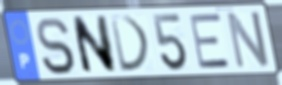5: (150, 12, 189, 74)
D: (108, 14, 153, 75)
E: (187, 11, 233, 71)
N: (69, 14, 118, 77), (225, 9, 272, 71)
S: (34, 16, 78, 77)
